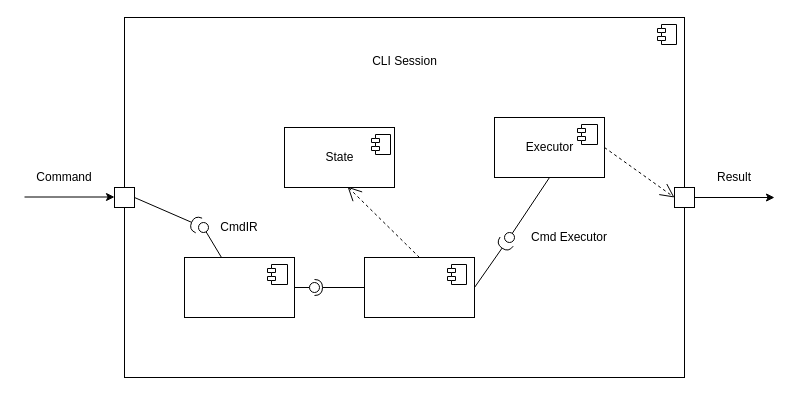
Image size: 800x395. Some labels were removed from this diagram. Here are the shapes that lost their labels. From the top down, the box of each, then its label:
(184, 256, 294, 318): Parser
(364, 256, 474, 318): Expanser
